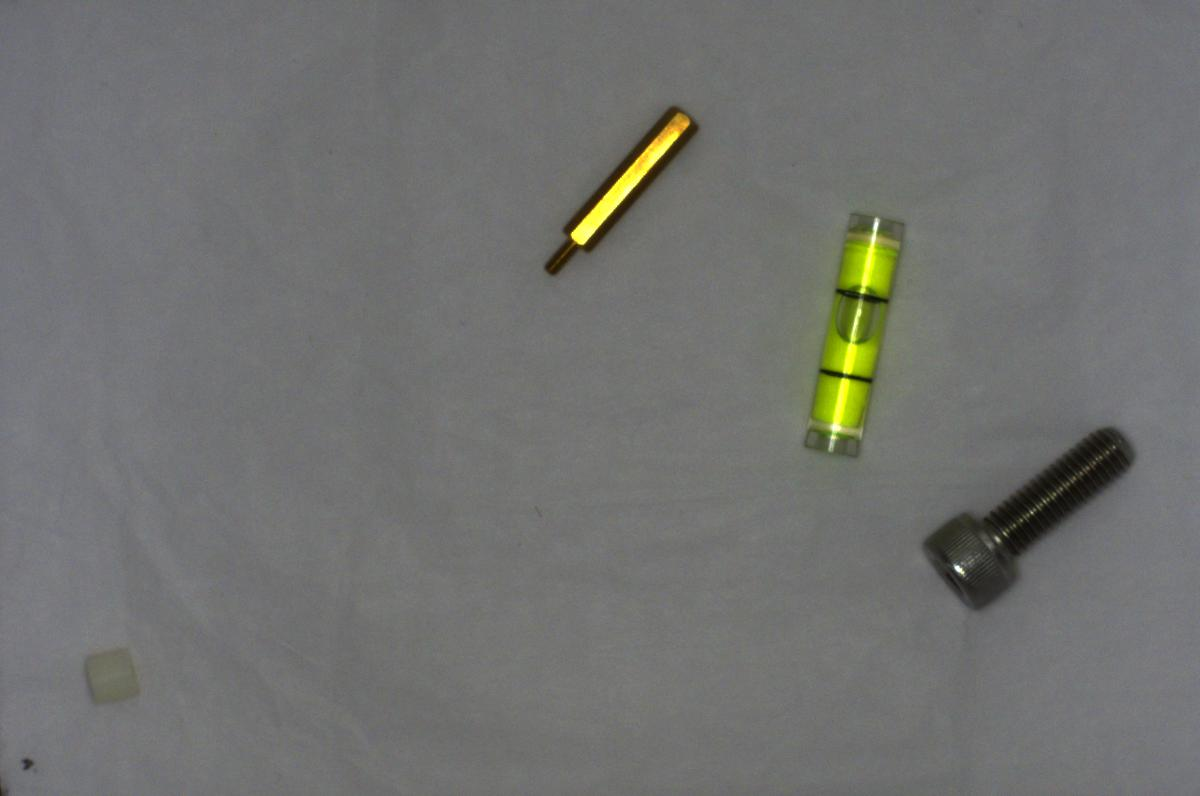Hexagon pillar: (530, 106, 704, 281)
Hexagon screw: (913, 406, 1140, 603)
Horizontal bubble: (782, 203, 904, 463)
Plastic cushion pillar: (75, 641, 148, 720)
